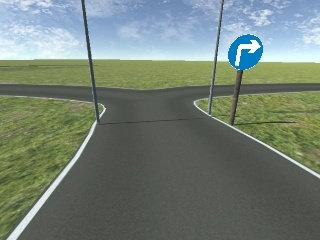TRight: (226, 33, 266, 72)
